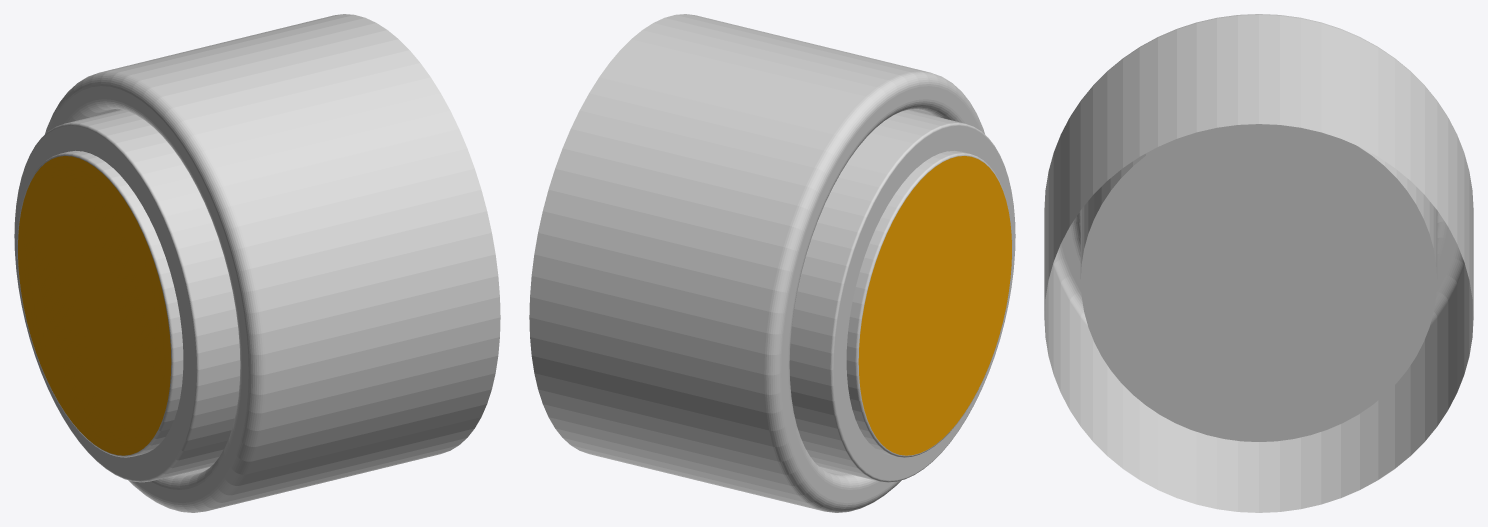
The model's file is roundRearBadge.glb.
The picture shows the model from 3 angles, left to right: view 1: azimuth 30°, elevation 25°; view 2: azimuth 150°, elevation 25°; view 3: azimuth 270°, elevation 25°; orthographic projection. The views are drawn at different scales.
Parts seen in each view (by area): view 1: Rear badge; view 2: Rear badge; view 3: Rear badge.
Part boxes in pixels (x1,y1,x2,y2): Rear badge: (14,14,500,512); Rear badge: (529,14,1015,512); Rear badge: (1044,14,1473,512).
Bounding box in the file's own units: 0.0871 × 0.1163 × 0.1163.
